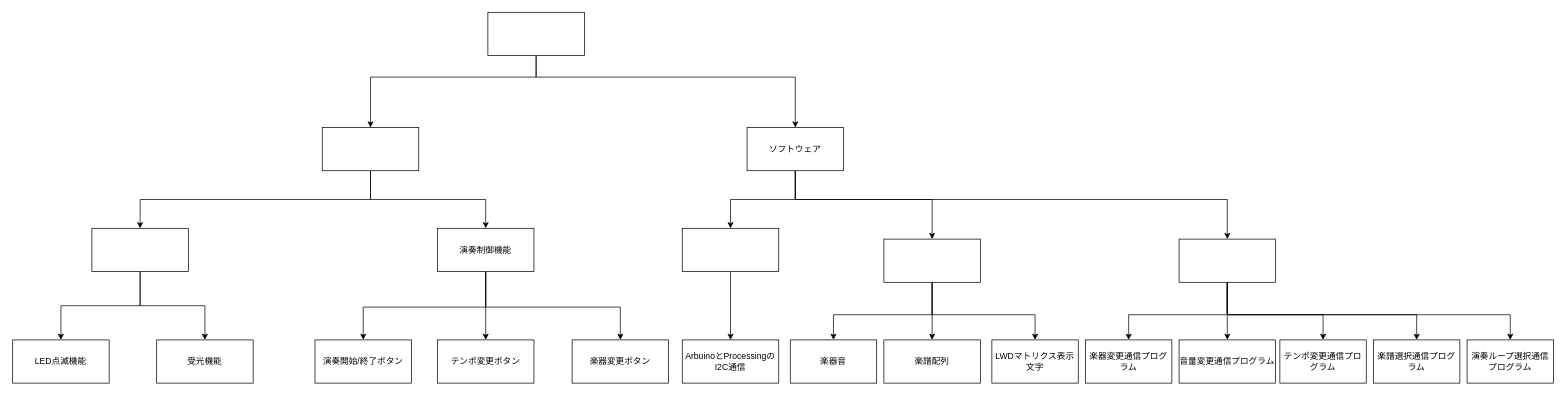
Image size: 1566x396. Some labels were removed from this diagram. Here are the shapes that lost their labels. From the top down, the centre of each, then its label:
At (x=535, y=34): "LED同期演奏システム".
At (x=370, y=149): "ハードウェア".
At (x=139, y=250): "演奏同期機能".
At (x=730, y=250): "楽器再生".
At (x=931, y=260): "データベース".
At (x=1227, y=260): "webページ".
